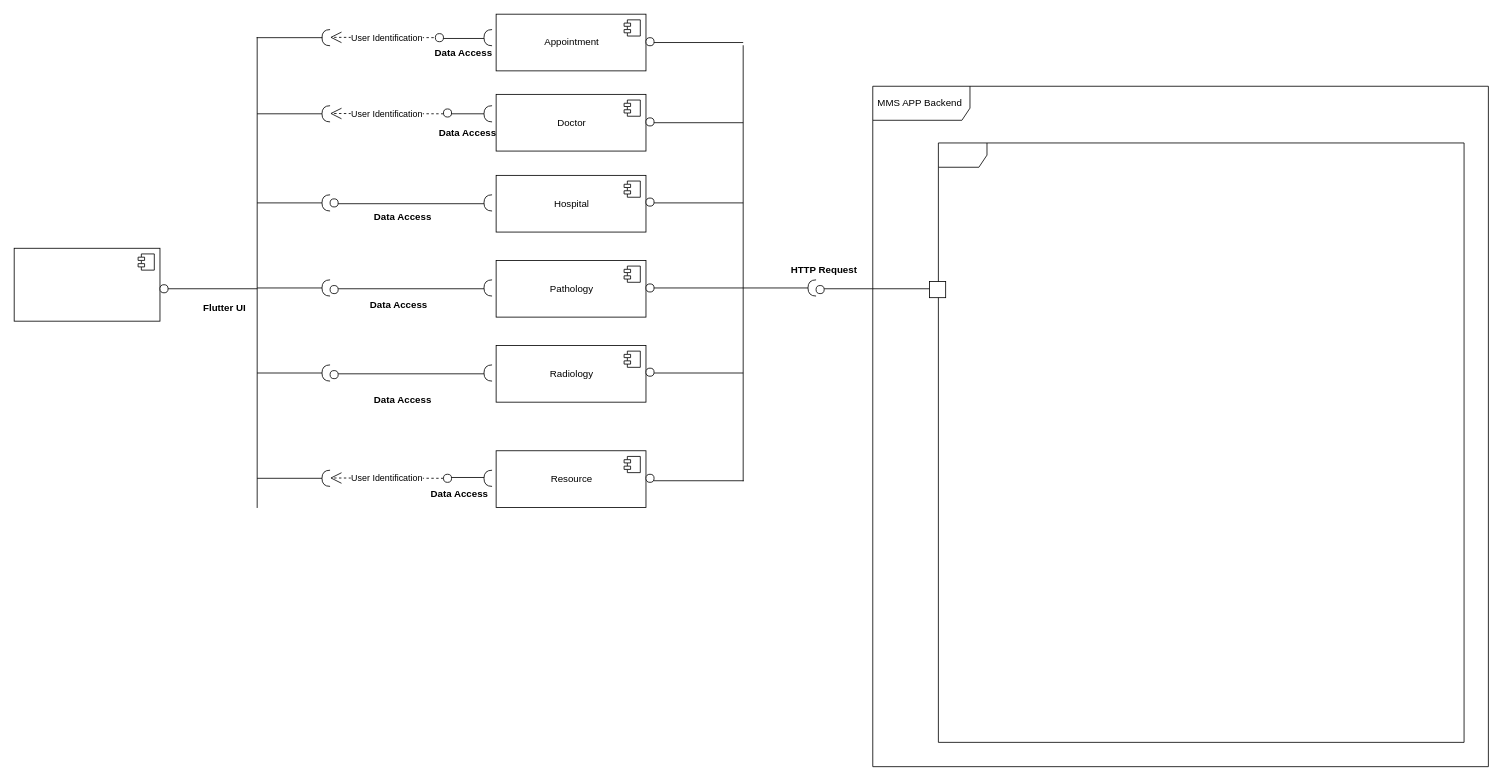
Image size: 1503x781. Some labels were removed from this diagram. The shapes that lost their labels are listed below. From the top down, each one's centre as x and y in pixels, then its label:
the point at 86,284: Patient (from IOS or Android System)
the point at 1201,442: frame
